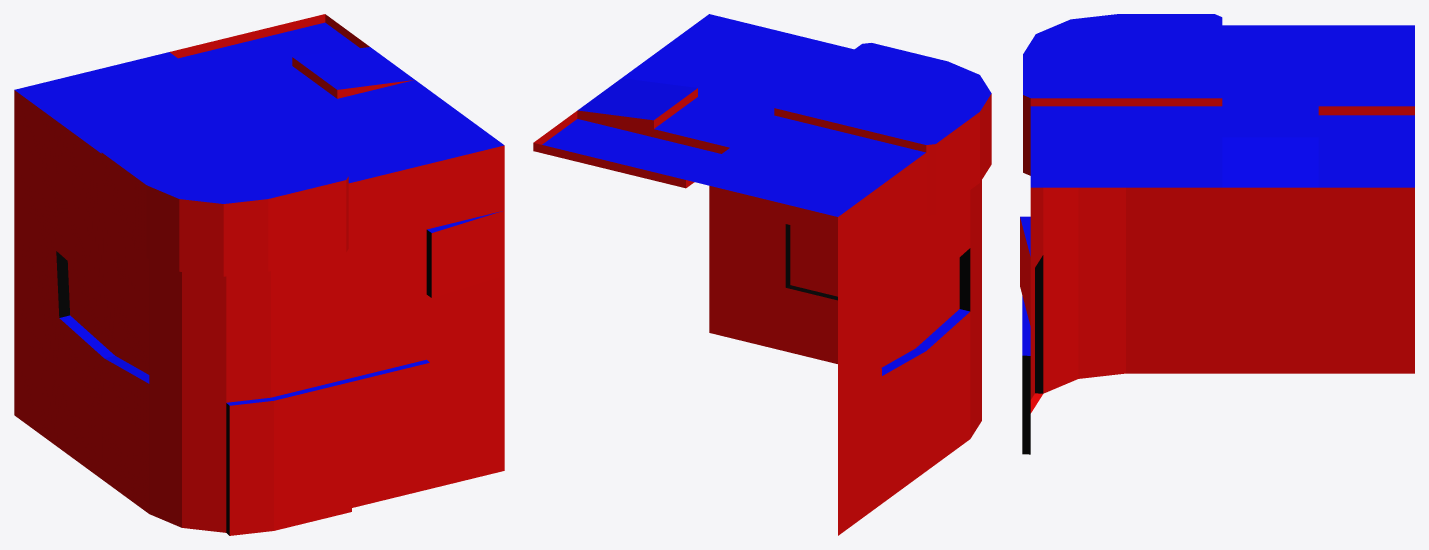
Rendered from Block_Corner_Rough_v1.fbx.
3 renders of one model, left to right at view 1: azimuth 30°, elevation 25°; view 2: azimuth 150°, elevation 25°; view 3: azimuth 270°, elevation 25°, orthographic. The views are drawn at different scales.
Visible parts, largest first — view 1: Cube.011; view 2: Cube.011; view 3: Cube.011.
Part boxes in pixels (left/top/right/bottom): Cube.011: left=14, top=14, right=504, bottom=535; Cube.011: left=533, top=14, right=991, bottom=535; Cube.011: left=1020, top=14, right=1414, bottom=454.
Bounding box in the file's own units: 102 × 103 × 103.
